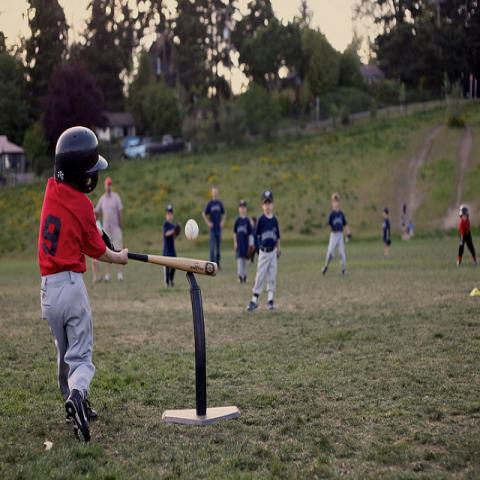car: (146, 134, 184, 156)
truck: (146, 135, 184, 155), (119, 138, 146, 162)
